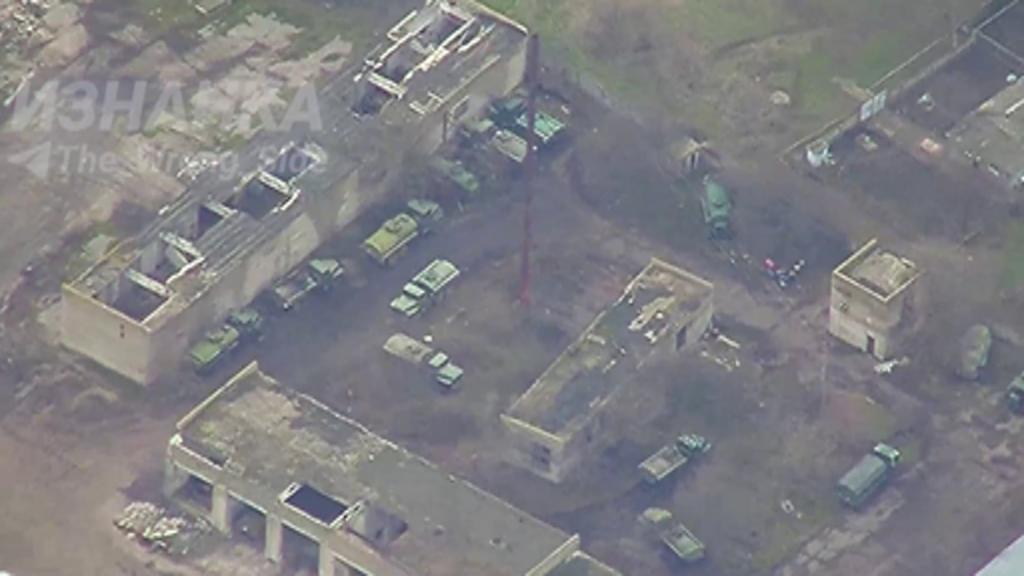TRUCK: (358, 194, 442, 262), (378, 328, 464, 392), (266, 252, 348, 318), (180, 308, 262, 372), (388, 255, 460, 321), (634, 503, 706, 566), (832, 440, 892, 508), (634, 430, 712, 482), (458, 116, 532, 169), (488, 96, 560, 144), (952, 321, 990, 379), (698, 180, 732, 238)
